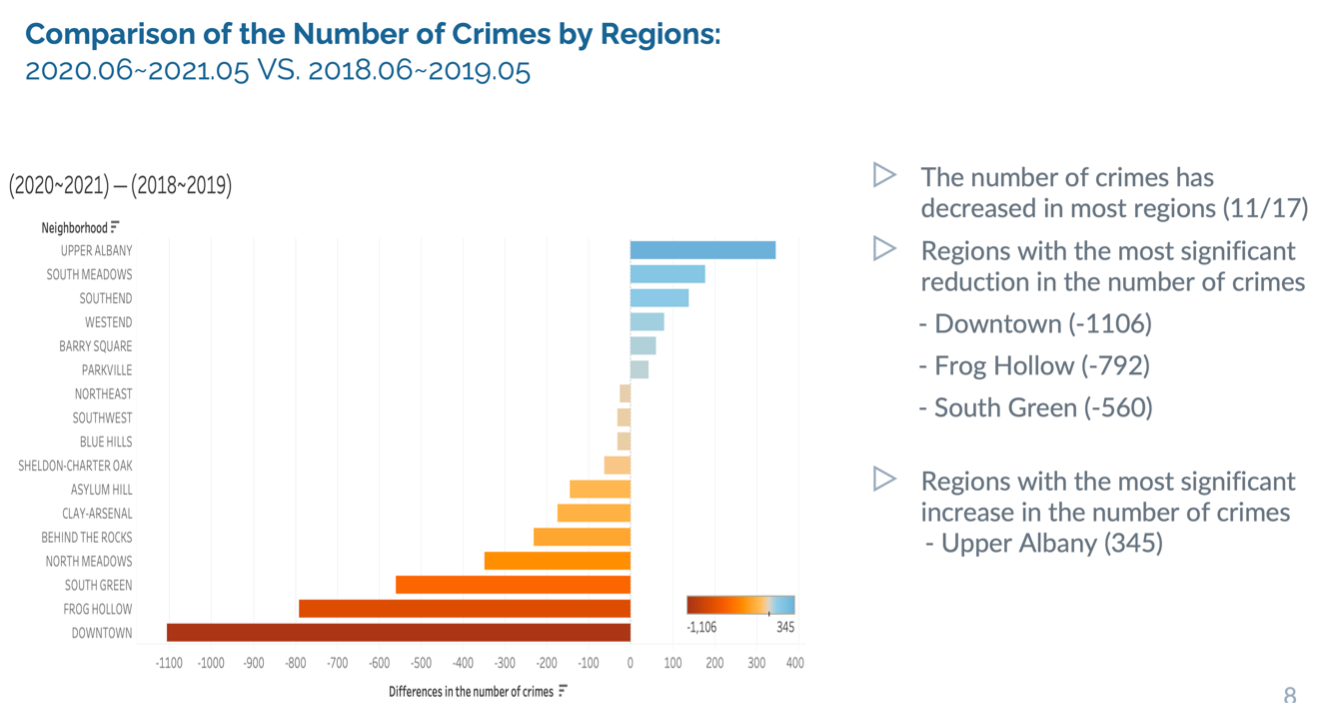

What the dashboard file says about the page in this screenshot:
{"tool":"tableau","page":{"name":"Dashboard 2","canvas":[1000,800],"ordinal":1},"visuals":[{"type":"worksheet","box":[0,0,1000,800]},{"type":"worksheet","param":"horz","box":[8,8,984,784]},{"type":"worksheet","box":[8,8,824,784]},{"type":"worksheet","title":"2018-2019 Crime","mark":"Automatic","rows":["Case_Number"],"cols":["Date"],"box":[8,8,824,392]},{"type":"worksheet","param":"vert","box":[832,8,160,784]},{"type":"worksheet","title":"Sheet 2","mark":"Automatic","param":"[federated.01vg11i1kdxzpe15m5s7c11l4ubx].[:Measure Names]","box":[832,8,160,66]},{"type":"worksheet","title":"Sheet 2","mark":"Automatic","box":[8,400,412,392]},{"type":"worksheet","title":"2020-2021 Crime","mark":"Automatic","rows":["Case_Number"],"cols":["Date"],"box":[420,400,412,392]}]}

Visuals, with their boxes on the page's 1000x800 design canvas (x1, y1, x2, y2). These are canvas units, not pixel positions in the 1320x705 screenshot, which may show the page scaled, cropped or inside an application window:
worksheet: pyautogui.locateOnScreen(0, 0, 1000, 800)
worksheet: pyautogui.locateOnScreen(8, 8, 992, 792)
worksheet: pyautogui.locateOnScreen(8, 8, 832, 792)
"2018-2019 Crime" worksheet: pyautogui.locateOnScreen(8, 8, 832, 400)
worksheet: pyautogui.locateOnScreen(832, 8, 992, 792)
"Sheet 2" worksheet: pyautogui.locateOnScreen(832, 8, 992, 74)
"Sheet 2" worksheet: pyautogui.locateOnScreen(8, 400, 420, 792)
"2020-2021 Crime" worksheet: pyautogui.locateOnScreen(420, 400, 832, 792)
